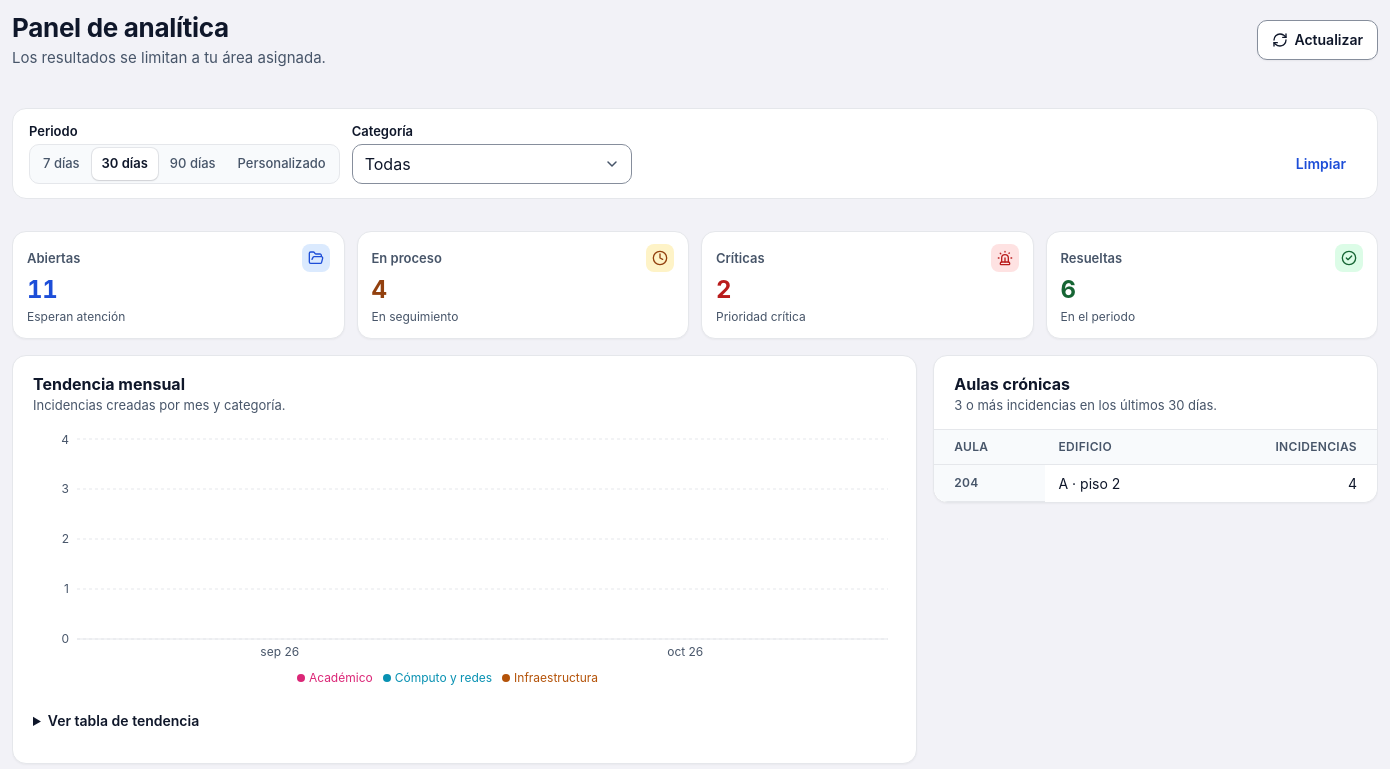
Scenario: Dashboard T-056 (Vitest + MSW) › no envía rango inválido y informa el error del filtro
The image size is (1390, 769).
Step 1. Click the button "Personalizado" → (282, 164), box [228,148,336,180]
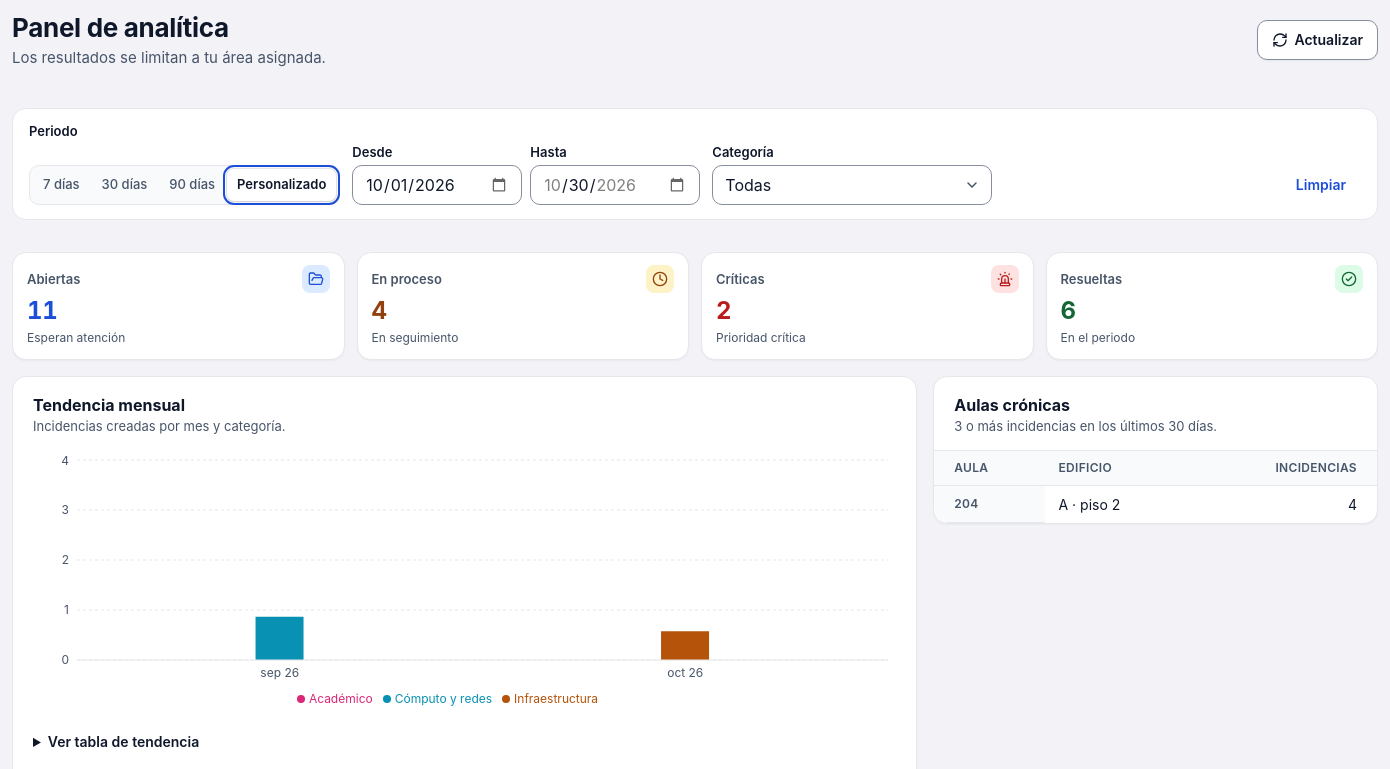
Step 2. Type "2026-01-10" into the date field labelled "Desde" → (437, 185), box [352,165,522,205]
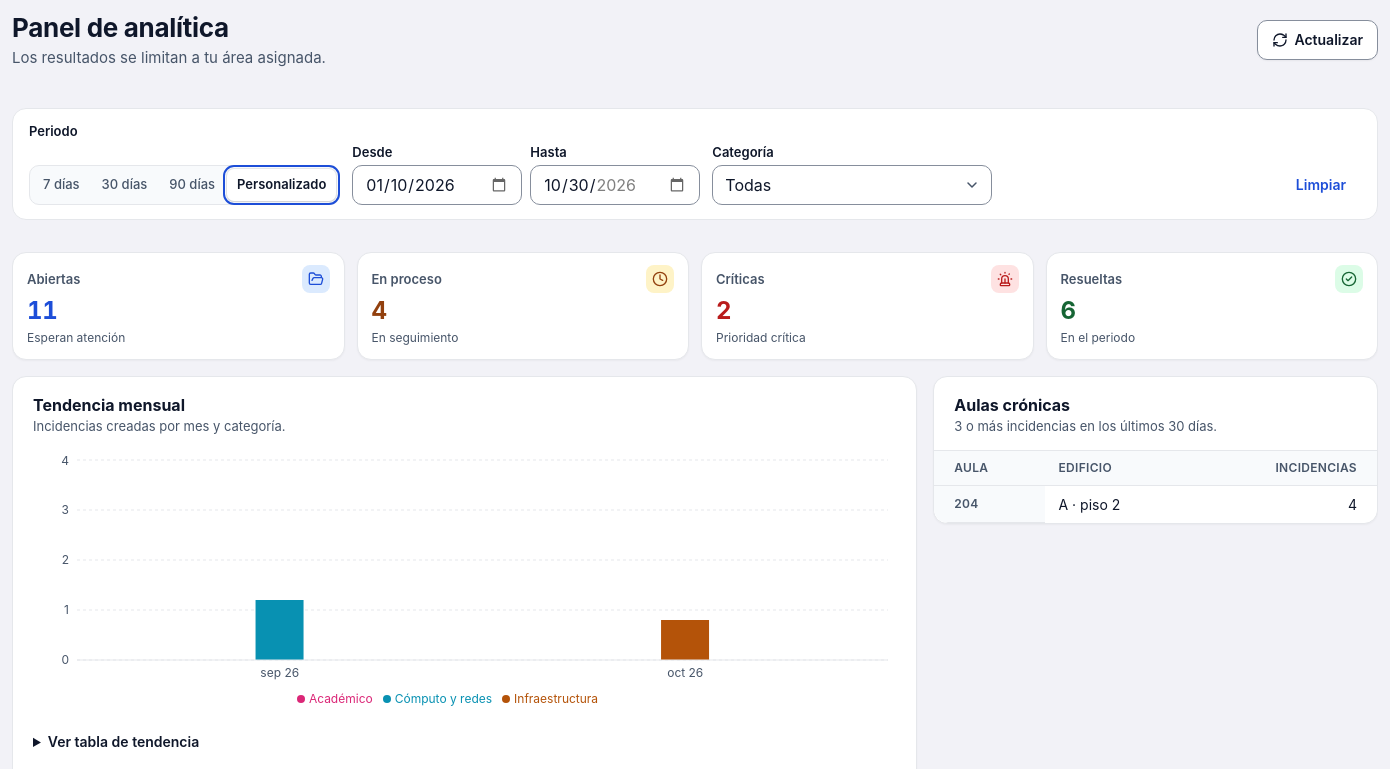
Step 3. Type "2026-01-05" into the date field labelled "Hasta" → (615, 185), box [530,165,700,205]
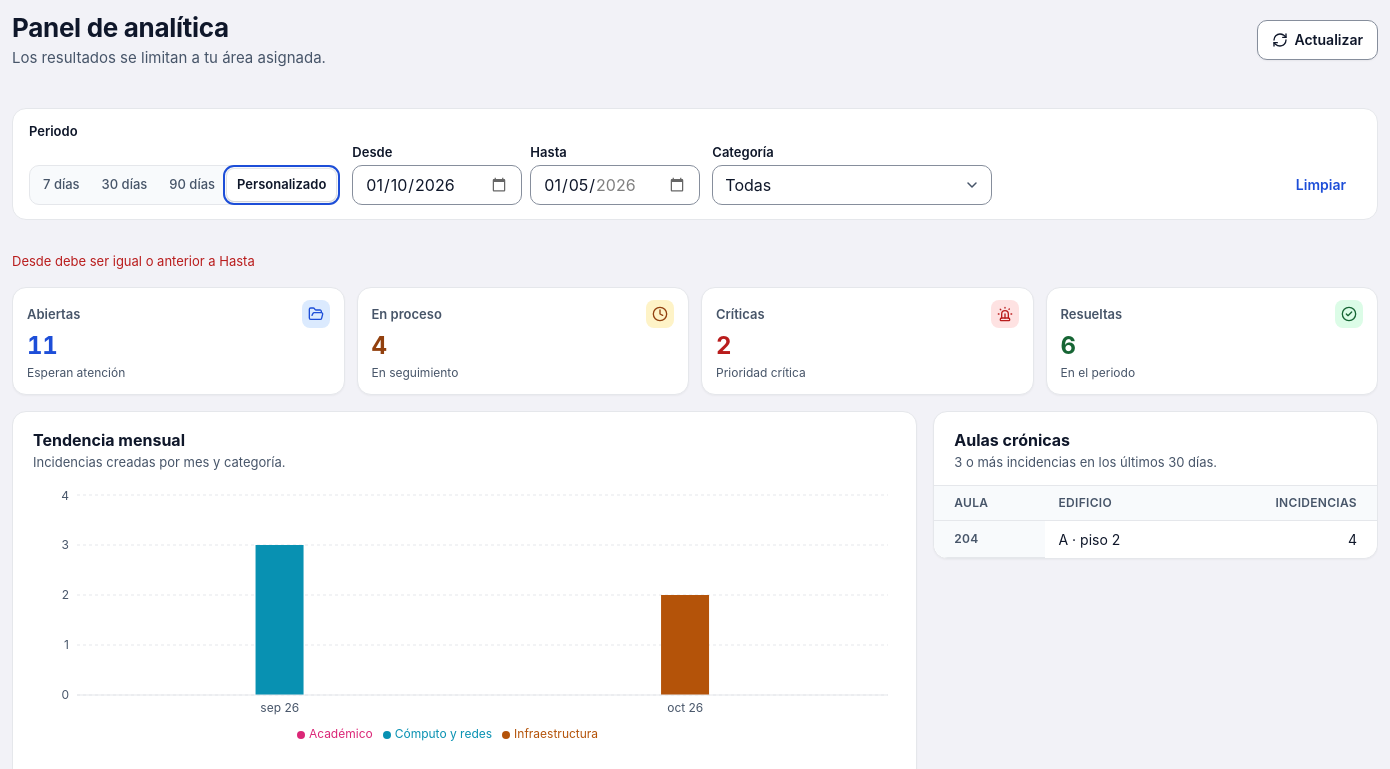
expect the text "Desde debe ser igual o anterior a Hasta" is shown: met, box [12,253,255,269]
